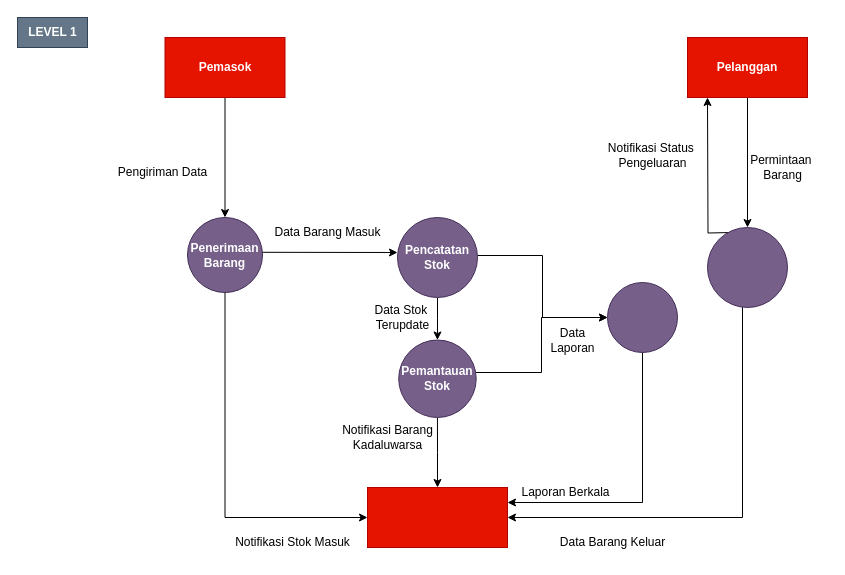
The diagram is 845 pixels wide and 575 high, and some of its shapes have lost their labels. Here are the shapes that lost their labels. From the top down, the box of each, then its label:
(706, 226, 788, 308): Pengeluaran Barang
(606, 282, 678, 352): Laporan Stok
(366, 486, 508, 548): Admin Gudang
